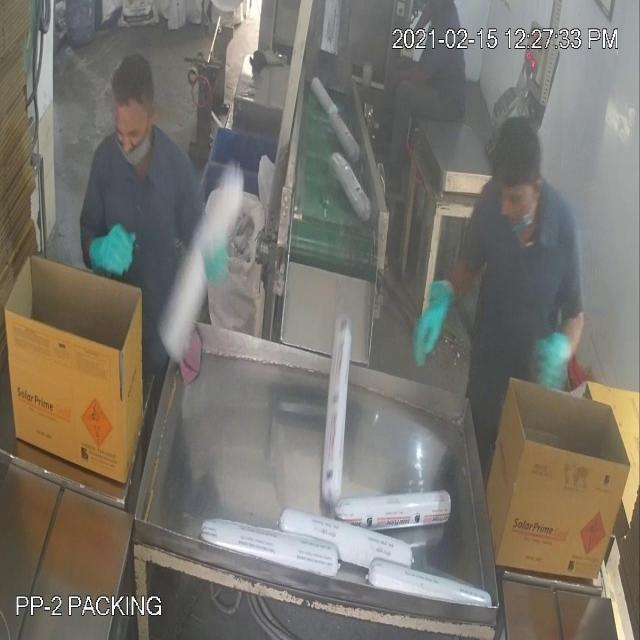Gloves: (42, 34, 551, 359)
